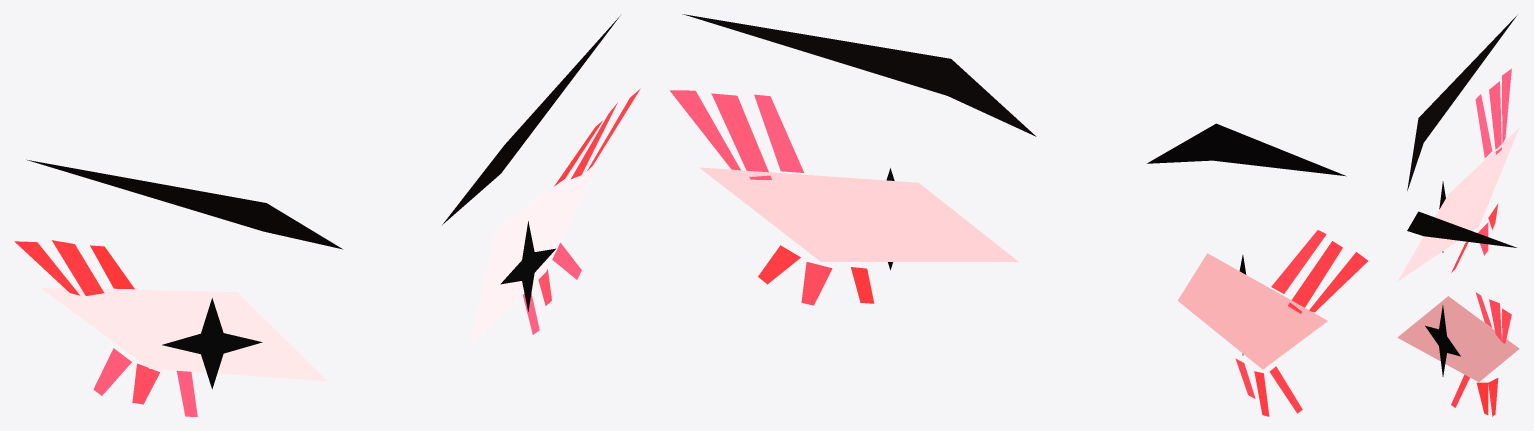
Rendered from eyesseeu.fbx.
3 views of the same model, side by side, from view 1: azimuth 30°, elevation 25°; view 2: azimuth 150°, elevation 25°; view 3: azimuth 270°, elevation 25° (orthographic). The views are drawn at different scales.
Parts seen in each view (by area): view 1: eyes; view 2: eyes; view 3: eyes.
Part boxes in pixels (x1=…): eyes: x1=14, y1=15, x2=640, y2=416; eyes: x1=670, y1=14, x2=1367, y2=416; eyes: x1=1397, y1=16, x2=1519, y2=416.
Size of the model in its own units: 163 by 64.45 by 34.41.
